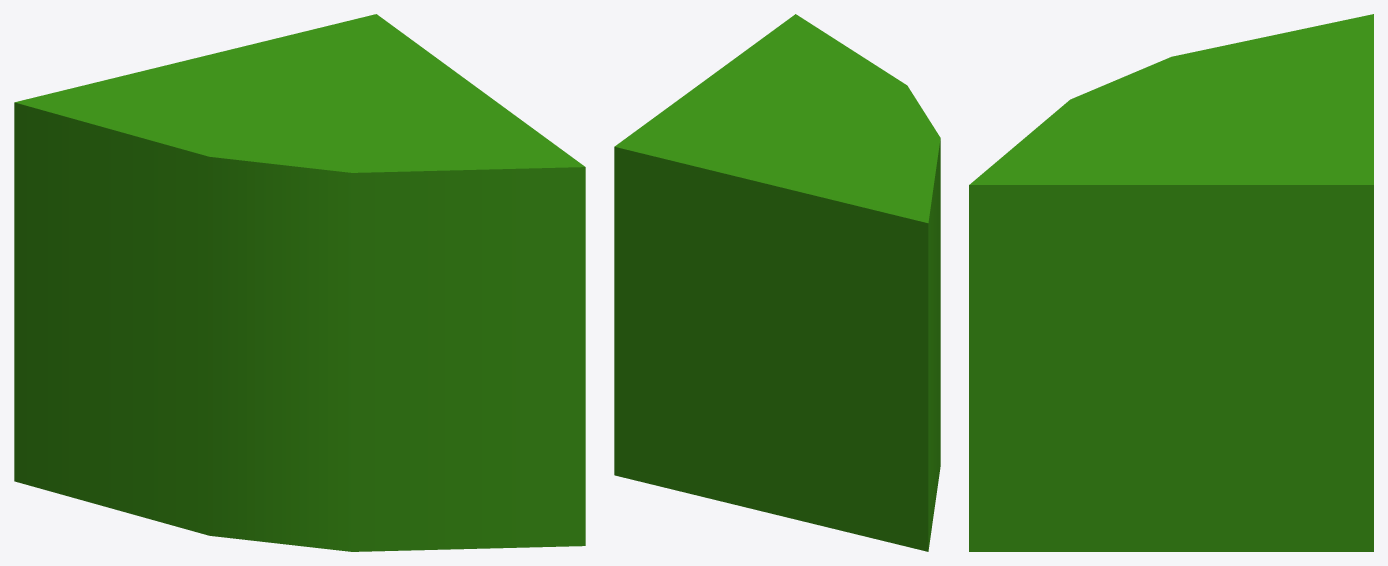
The model's file is UnderFloorEdge.fbx.
3 renders of one model, left to right at view 1: azimuth 30°, elevation 25°; view 2: azimuth 150°, elevation 25°; view 3: azimuth 270°, elevation 25°, orthographic. The views are drawn at different scales.
Visible parts, largest first — view 1: UnderFloorCorner; view 2: UnderFloorCorner; view 3: UnderFloorCorner.
Boxes of the visible parts, x1=… form: UnderFloorCorner: x1=14, y1=14, x2=585, y2=551; UnderFloorCorner: x1=614, y1=14, x2=940, y2=551; UnderFloorCorner: x1=969, y1=14, x2=1373, y2=551.
Bounding box in the file's own units: 39.5 × 39.5 × 39.5.
